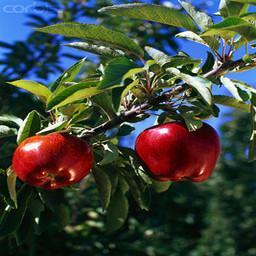apple: (133, 118, 220, 181), (10, 131, 92, 190)
